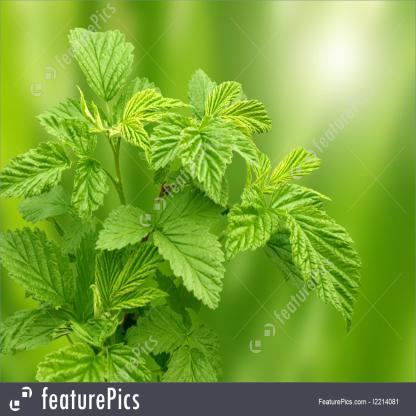Raspberry leaf: (285, 210, 361, 334), (154, 220, 224, 312), (68, 24, 136, 100), (221, 200, 271, 267), (93, 202, 159, 252)
